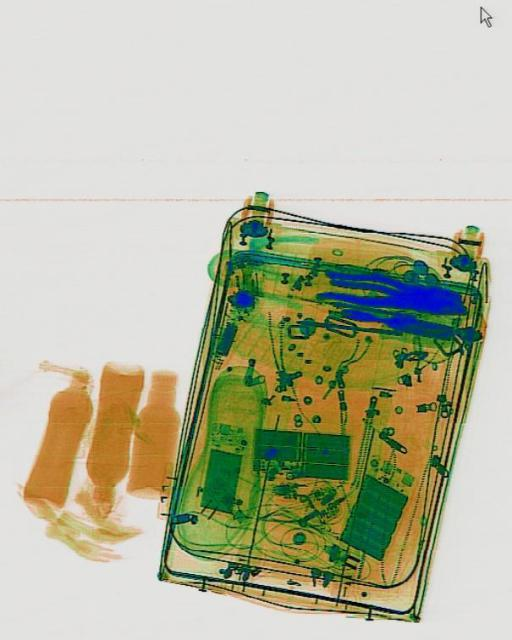Pliers: (313, 260, 462, 326)
